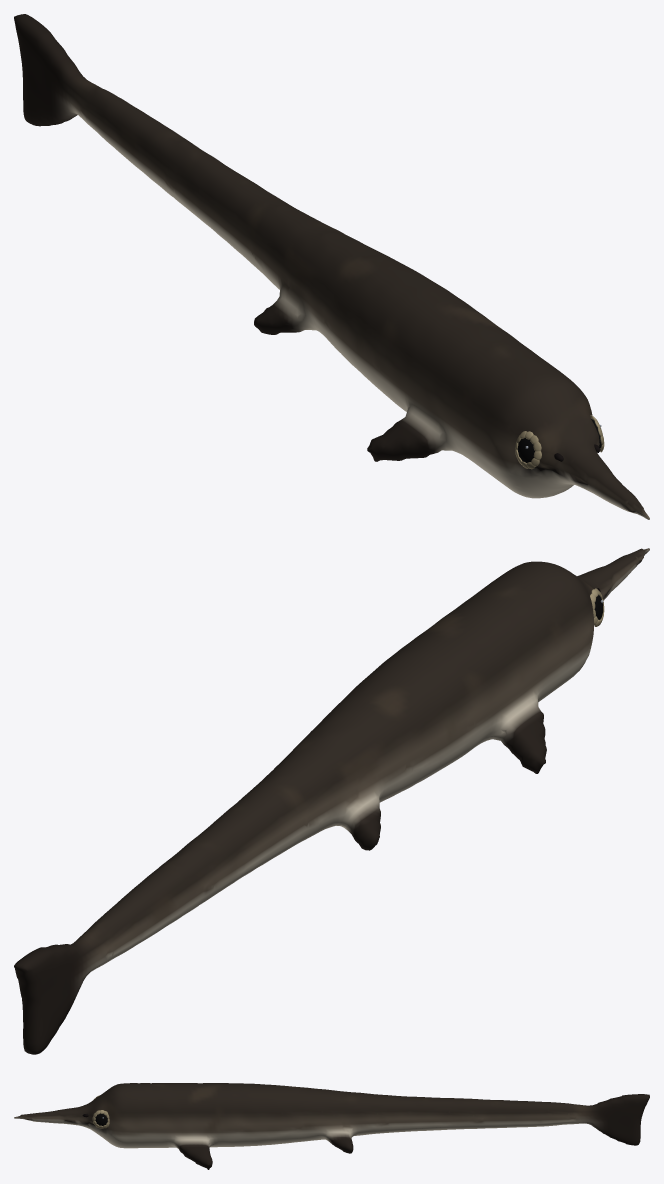
The model's file is Cymbospondylus.fbx.
The picture shows the model from 3 angles, top to bottom: view 1: azimuth 30°, elevation 25°; view 2: azimuth 150°, elevation 25°; view 3: azimuth 270°, elevation 25°; orthographic projection. The views are drawn at different scales.
Visible parts, largest first — view 1: Cymbospondylus; view 2: Cymbospondylus; view 3: Cymbospondylus.
Boxes of the visible parts, x1,y1,x2,y2 form: Cymbospondylus: (14, 14, 649, 519); Cymbospondylus: (14, 548, 649, 1054); Cymbospondylus: (14, 1083, 649, 1169).
Size of the model in its own units: 0.3111 by 0.2138 by 1.92.
